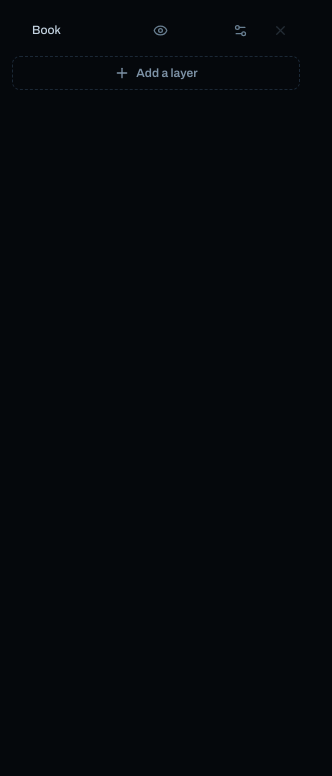
Test: LayerPanel › keeps the recording controls with the book they are the instrument of
Click the button named " settings".
click(240, 30)  # box [224,14,256,46]
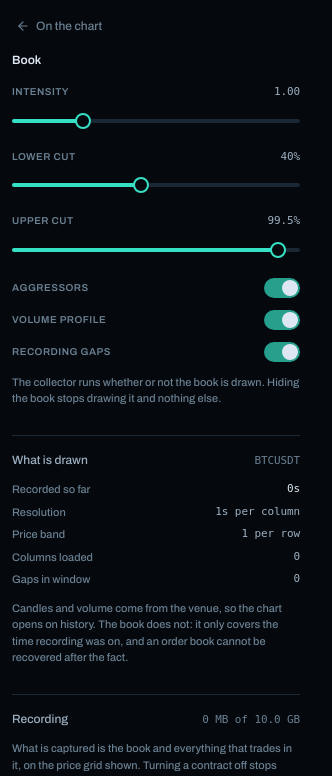
Now the text "The collector runs whether or not" is shown, box [12,376,299,404]
